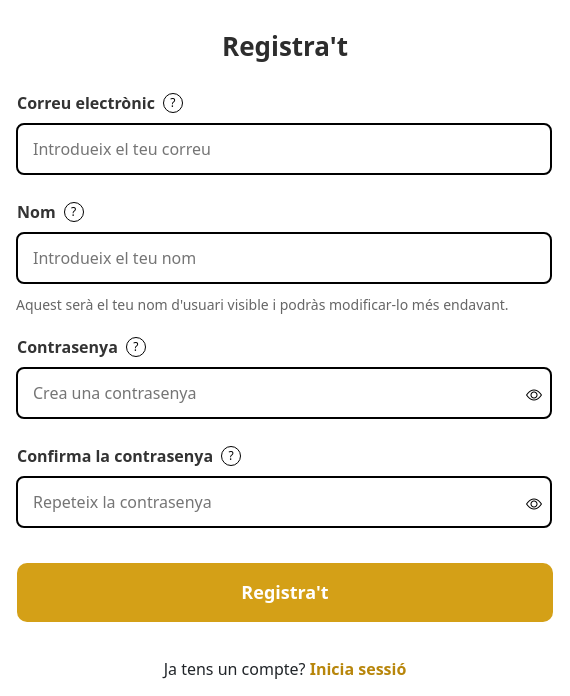
it: Registre component › shows email tooltip message when is clicked
Click the button with class "tooltip-btn" next to "Correu electrònic".
click(173, 103)  # box left=163, top=93, right=183, bottom=113
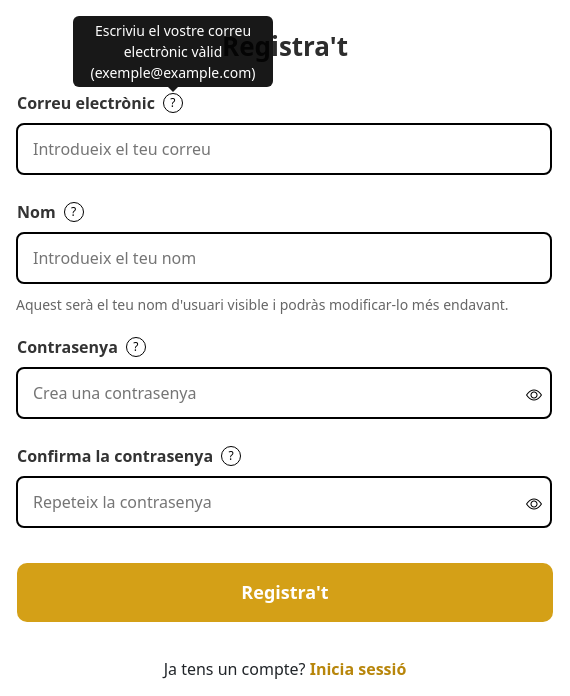
Now the text "Escriviu el vostre correu electrònic vàlid (exemple@example.com)" is shown, box left=73, top=16, right=273, bottom=87
